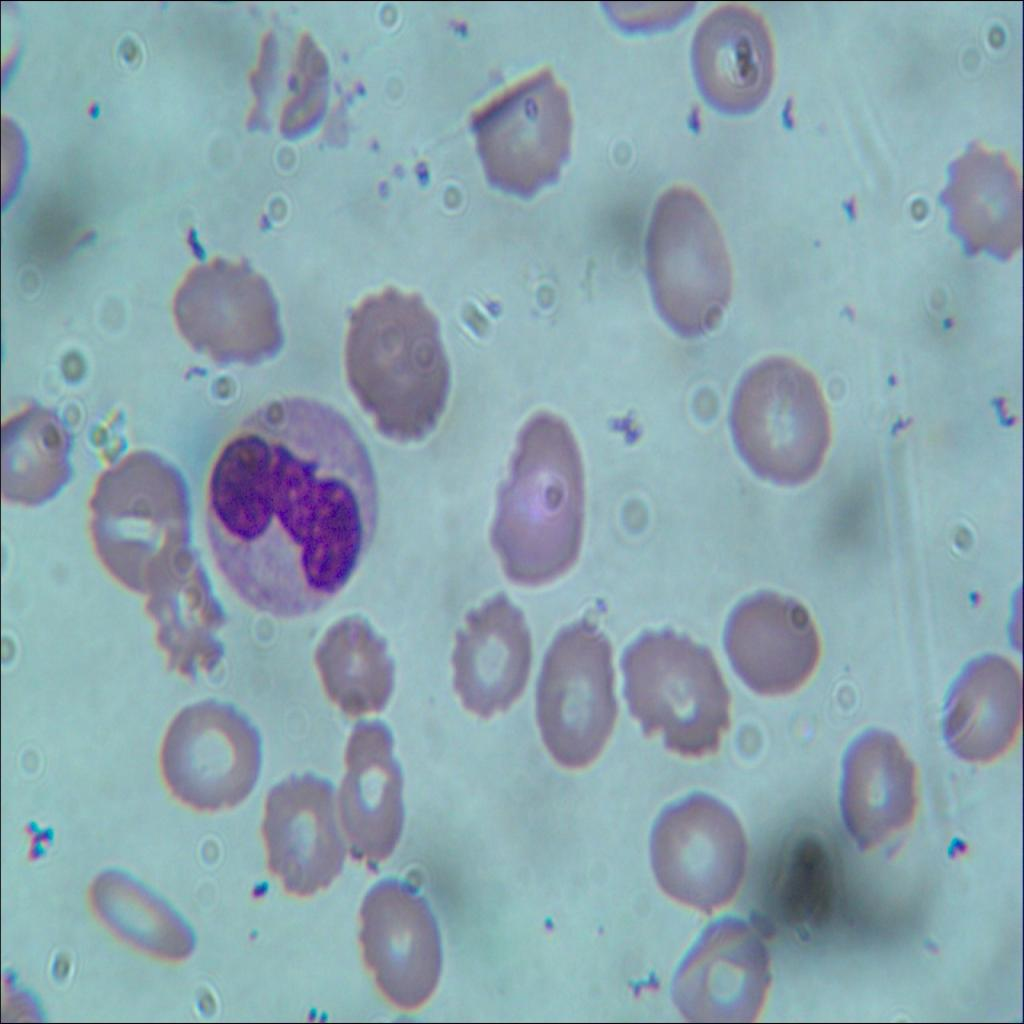Eritrosit: (72, 442, 198, 586), (342, 291, 454, 450), (641, 182, 741, 344), (150, 699, 289, 815), (724, 348, 838, 485), (718, 572, 828, 711), (622, 628, 735, 758), (128, 547, 233, 684), (642, 785, 752, 914), (351, 882, 454, 1016), (78, 861, 210, 964), (466, 77, 579, 197), (442, 586, 538, 724), (160, 260, 286, 364), (532, 612, 614, 770), (662, 912, 776, 1023), (326, 724, 418, 854), (938, 138, 1024, 268), (486, 478, 586, 584), (934, 648, 1023, 764), (506, 410, 586, 538), (314, 621, 408, 719), (261, 782, 343, 894), (843, 725, 911, 850), (0, 402, 76, 511)
Neutrofil: (199, 385, 388, 627)
Platelet: (938, 821, 980, 865), (962, 568, 995, 618), (536, 908, 570, 954), (933, 305, 968, 344), (878, 358, 911, 398), (79, 88, 104, 132), (254, 204, 283, 234)
